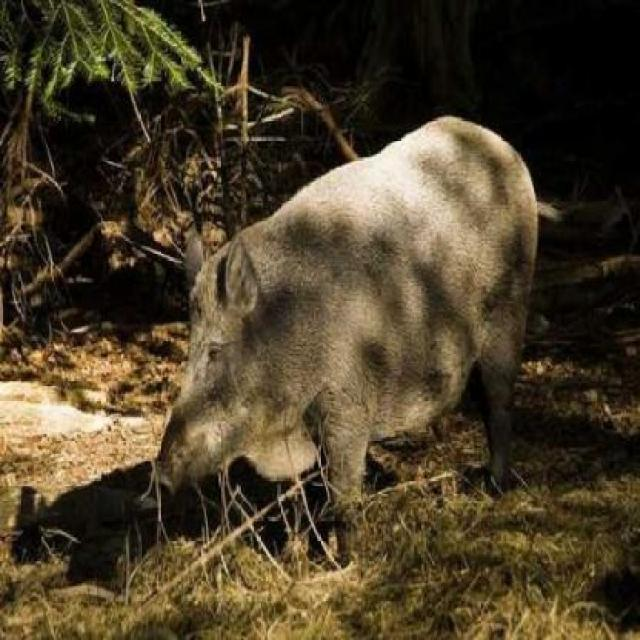pig: (155, 100, 554, 547)
